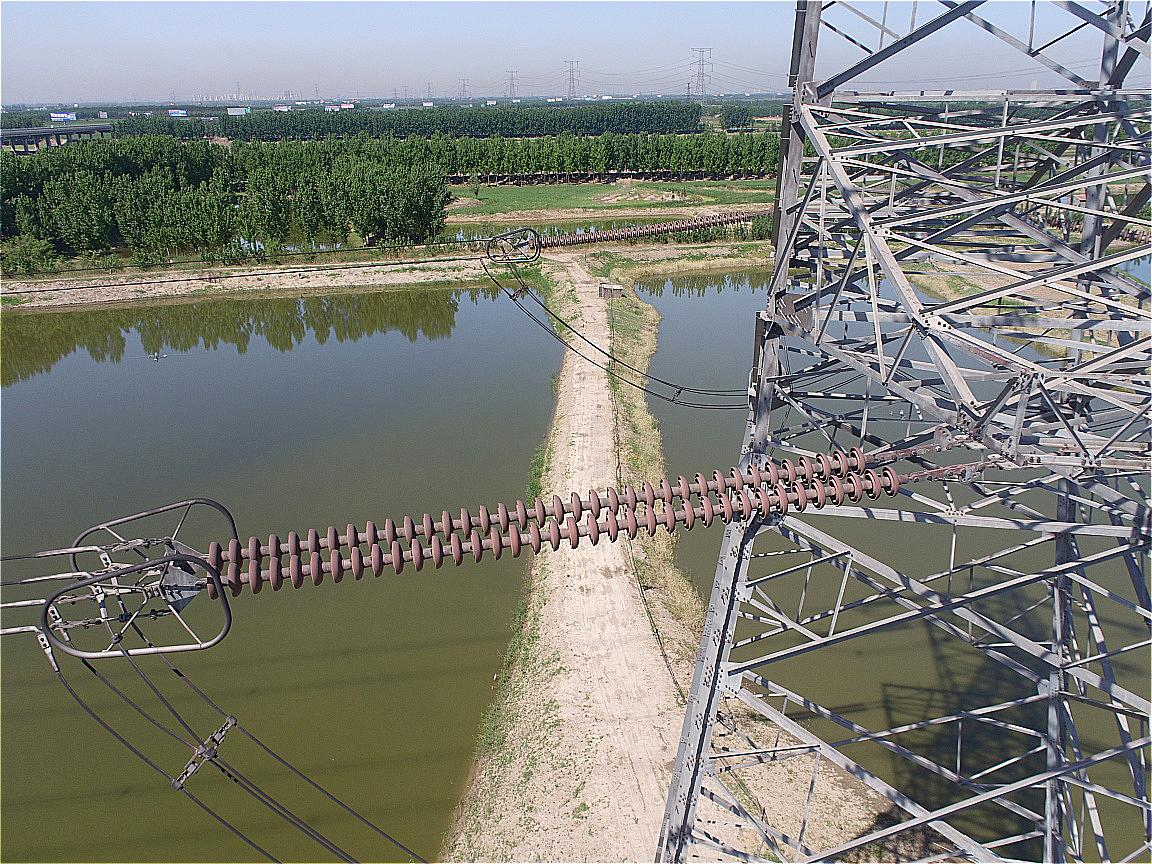insultor1: (205, 446, 900, 602)
insultor2: (532, 208, 746, 252)
